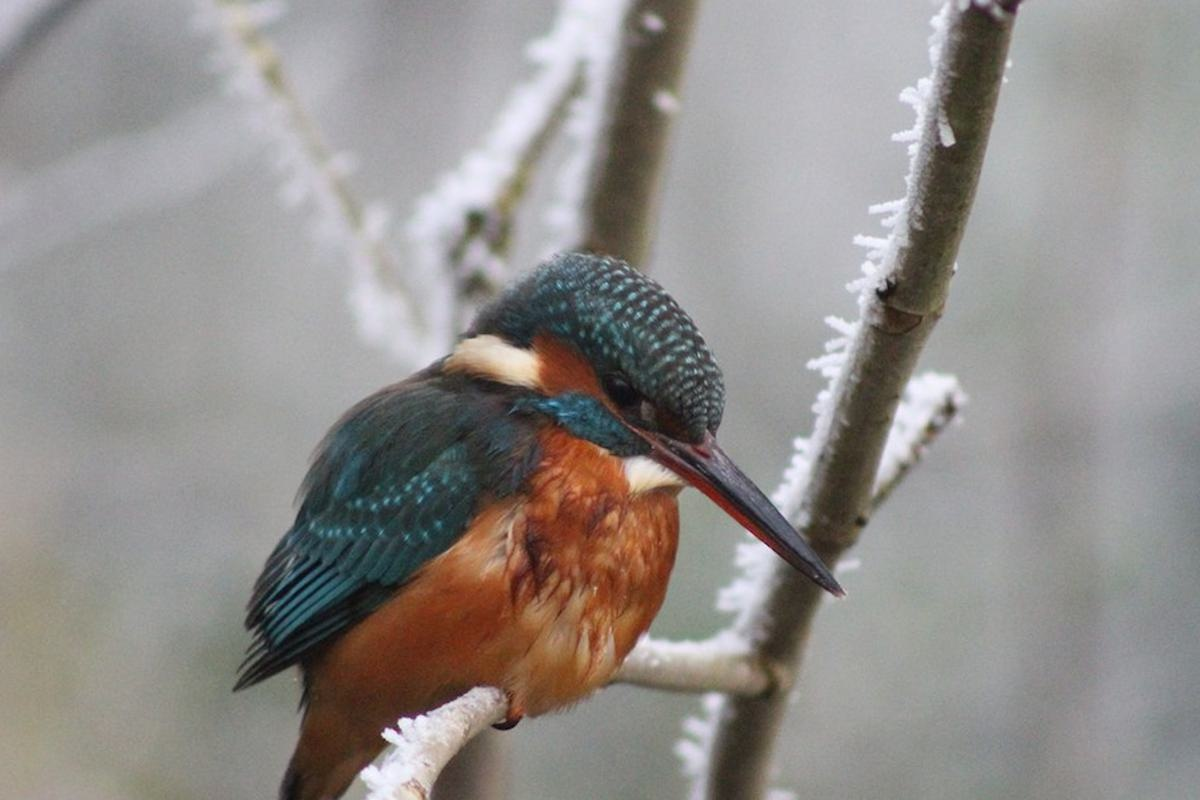kingfisher: (221, 255, 858, 795)
